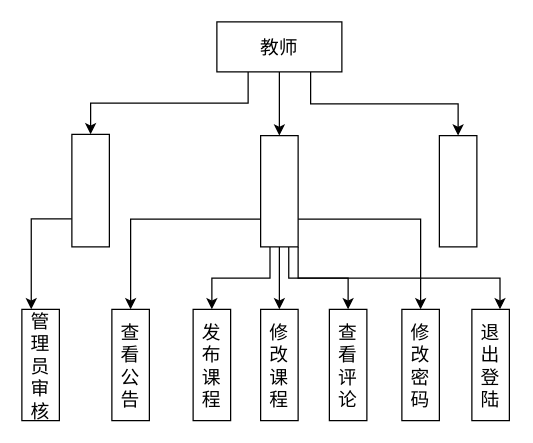
Some shapes in this 533 by 443 pixel diagram are drawn without their labels. The shapes that lost their labels are listed below. From the top down, each one's centre as x and y in pixels, then its label:
At [90,190]: "注册".
At [278,190]: "登录".
At [457,190]: "找回密码".
